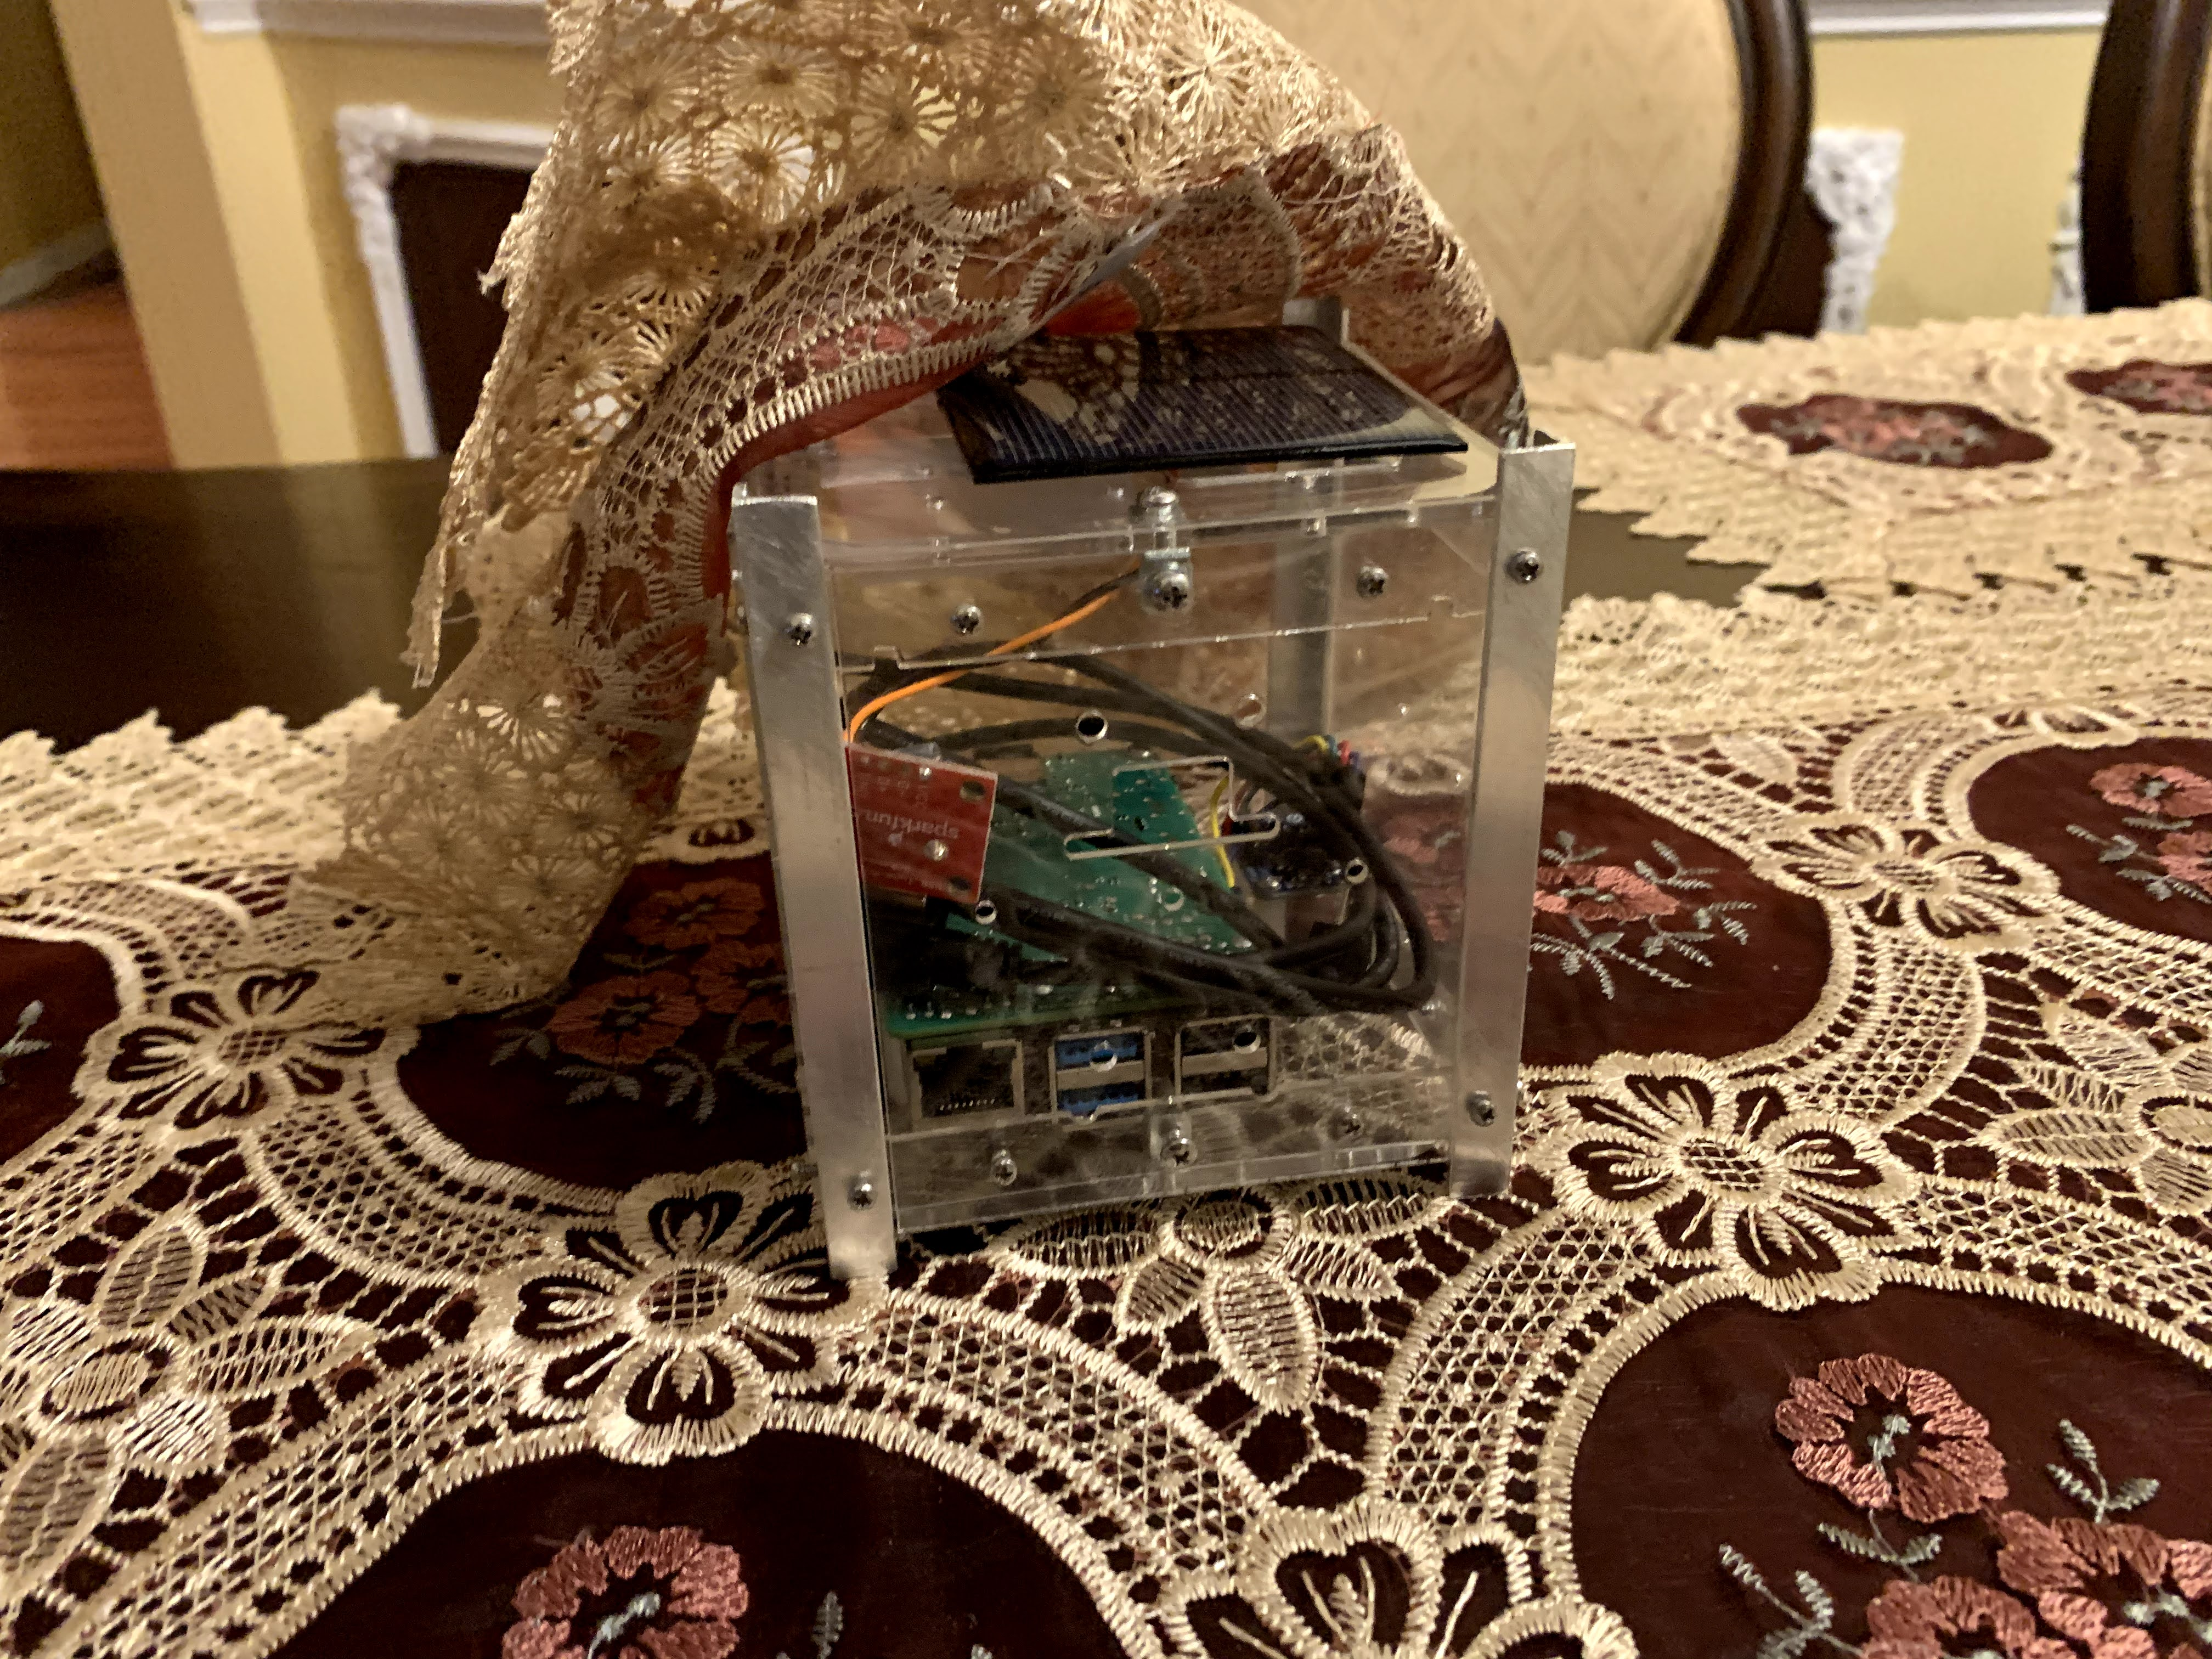Space-debris-cubesat: (704, 281, 1601, 1276)
